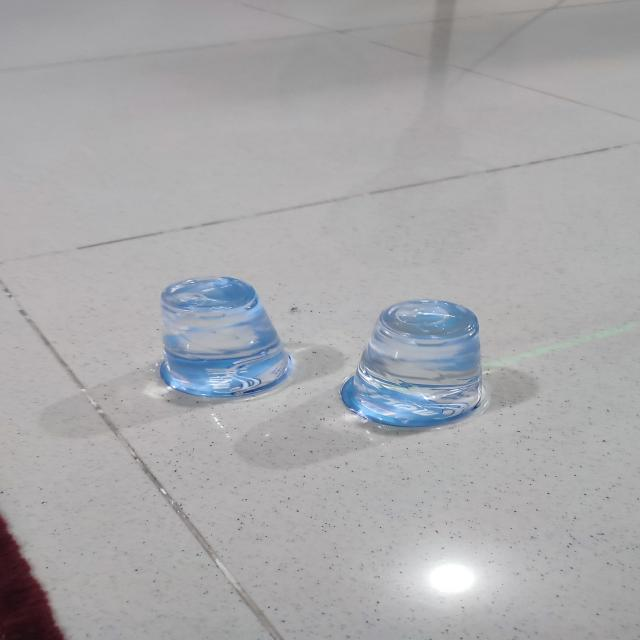air gelas: (333, 292, 499, 435), (154, 266, 302, 400)
